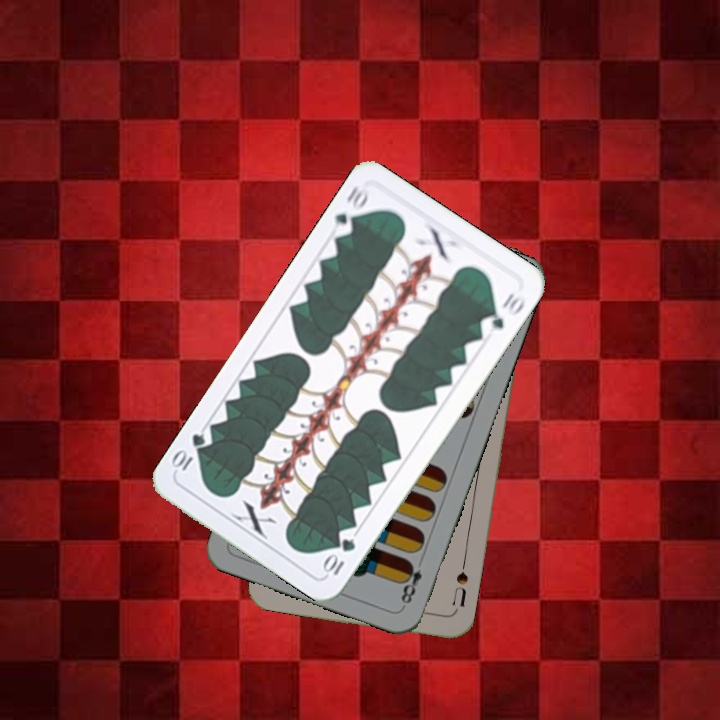E8: (396, 557, 425, 610)
G10: (328, 181, 373, 240), (319, 534, 359, 579)
SU: (448, 568, 471, 610)
